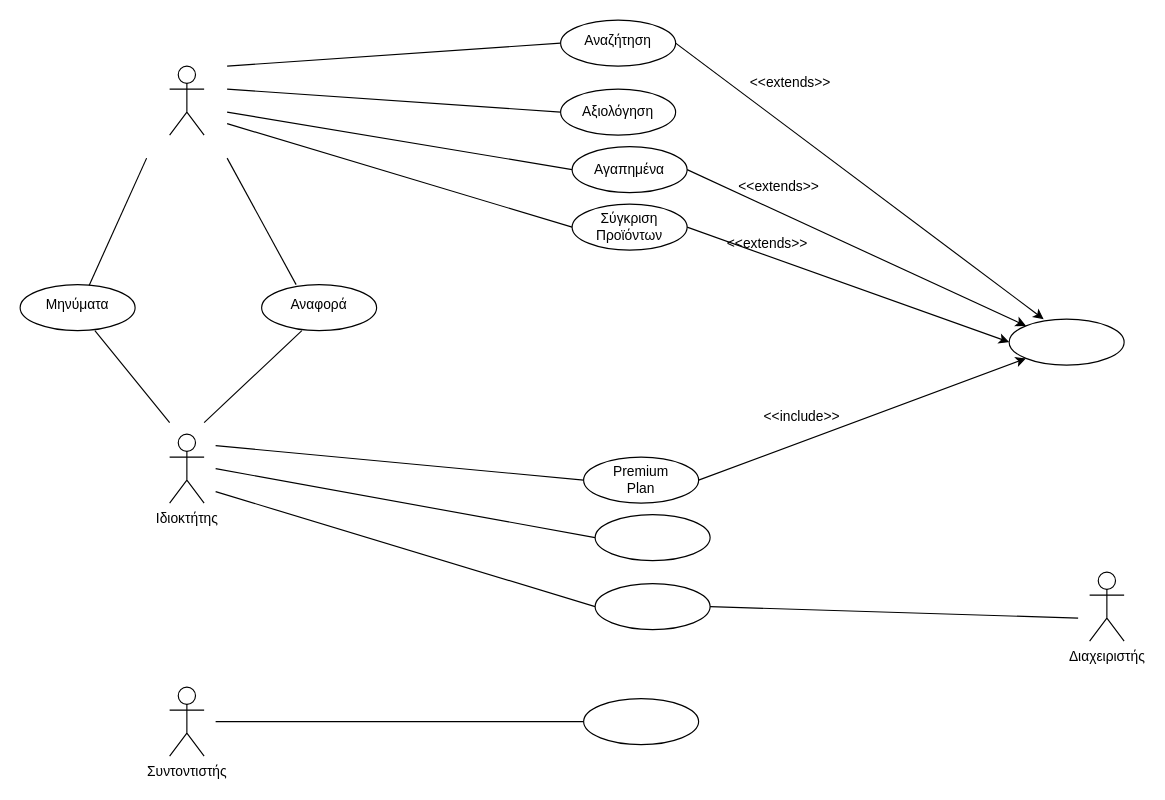
This 1165x800 diagram has some shape labels left out. Here are the shapes that lost their labels. From the top down, the box of each, then its label:
(168, 65, 204, 135): Ενοικιαστής
(1008, 318, 1124, 365): Πληρωμή
(594, 513, 710, 561): Δημιουργία Αγγελίας
(594, 582, 710, 630): Ιστορικό Ιδιοκτήτη
(582, 697, 699, 745): Διαχείριση Αγγελειών
